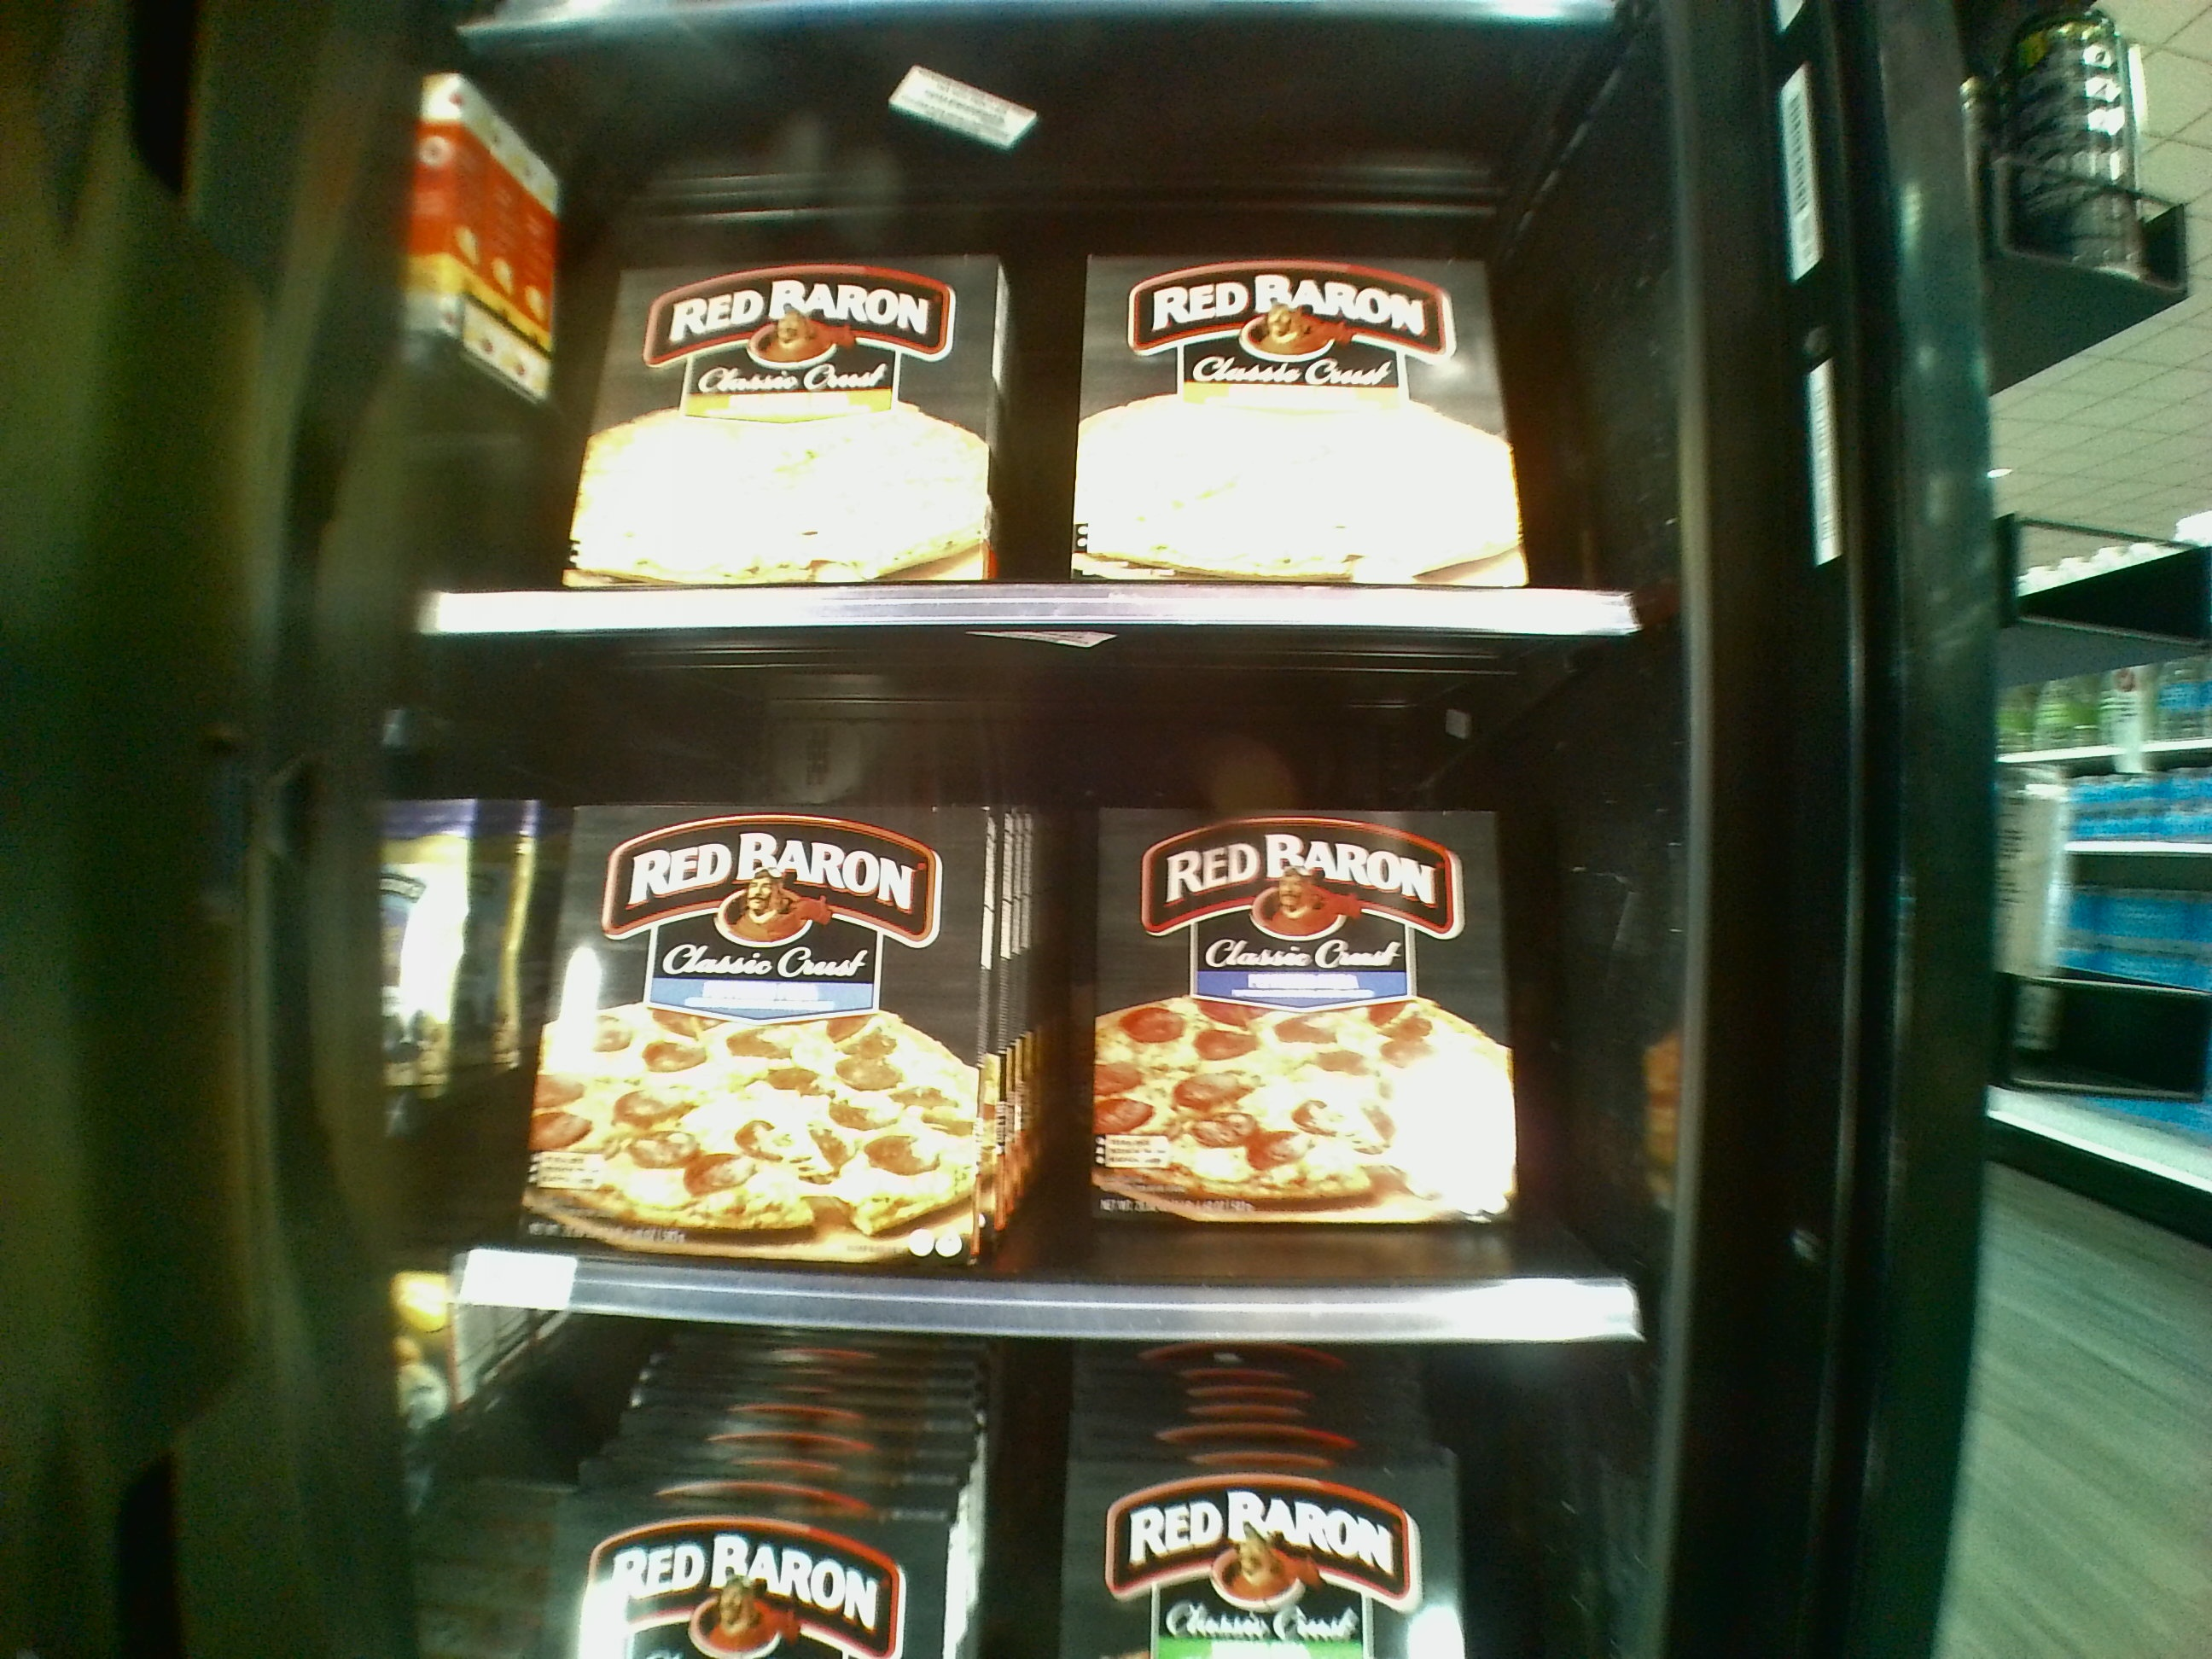shelf: (460, 653, 1649, 1347), (448, 49, 1653, 666)
